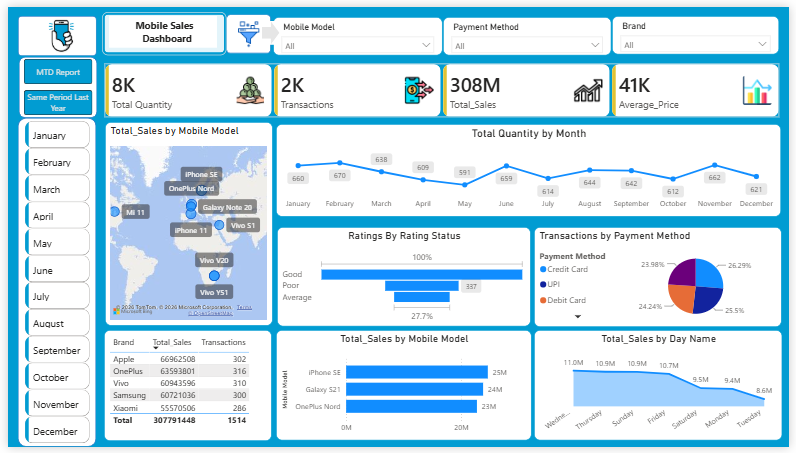

What the dashboard file says about the page in this screenshot:
{"tool":"powerbi","page":{"name":"DashBoard","canvas":[1280,720],"ordinal":0},"visuals":[{"type":"shape","box":[16.9,14.8,128.8,65.5],"z":0},{"type":"shape","box":[18.3,81.5,128,99.7],"z":1000},{"type":"image","box":[30.2,13,116.6,67.7],"z":2000},{"type":"shape","box":[15.8,181.4,128.2,538.6],"z":3000},{"type":"advancedSlicerVisual","fields":{"Values":["Custom_Calendar.Date.Variation.Date Hierarchy.Month"]},"box":[23.3,181.2,129.7,538.6],"z":4000},{"type":"cardVisual","fields":{"Data":["Sales_Data.Total Quantity","Sales_Data.Transactions","Sales_Data.Total_Sales","Sales_Data.Average_Price"]},"box":[144.6,78.1,1135.4,116.4],"z":5000},{"type":"slicer","fields":{"Values":["Sales_Data.Mobile Model"]},"box":[434.9,15.8,277.9,63.4],"z":6000},{"type":"slicer","fields":{"Values":["Sales_Data.Payment Method"]},"box":[712.8,15.8,276.5,63.4],"z":7000},{"type":"slicer","fields":{"Values":["Sales_Data.Brand"]},"box":[990.7,14.4,273.6,63.4],"z":8000},{"type":"shape","box":[354.2,8.6,80.6,72],"z":9000},{"type":"image","box":[358.6,23,70.6,43.2],"z":10000},{"type":"shape","box":[416.2,23,28.8,38.9],"z":11000},{"type":"shape","box":[154.1,8.6,204.5,70.6],"z":12000},{"type":"textbox","box":[165.6,14.4,177.1,51.8],"z":13000},{"type":"map","fields":{"Category":["Sales_Data.Mobile Model"],"Size":["Sales_Data.Total_Sales"]},"box":[158.4,188.6,275,334.1],"z":14000},{"type":"lineChart","fields":{"Category":["Custom_Calendar.Date.Variation.Date Hierarchy.Month"],"Y":["Sales_Data.Total Quantity"]},"box":[439.3,191.8,827.9,152.5],"z":15000},{"type":"funnel","title":"Ratings By Rating Status","fields":{"Y":["CountNonNull(Sales_Data.Customer Age)"],"Category":["Sales_Data.Rating Status"]},"box":[440.6,360,416.2,162.7],"z":16000},{"type":"pieChart","fields":{"Category":["Sales_Data.Payment Method"],"Y":["Sales_Data.Transactions"]},"box":[862.6,361.4,406.1,164.2],"z":17000},{"type":"clusteredBarChart","fields":{"Y":["Sales_Data.Total_Sales"],"Category":["Sales_Data.Mobile Model"]},"box":[438.9,530.3,418.9,181.2],"z":18000},{"type":"areaChart","fields":{"Y":["Sales_Data.Total_Sales"],"Category":["Custom_Calendar.Day Name"]},"box":[862.8,530.3,407.3,181.2],"z":19000},{"type":"tableEx","fields":{"Values":["Sales_Data.Brand","Sales_Data.Total_Sales","Sales_Data.Transactions"]},"box":[157.4,529.5,275.4,182],"z":20000},{"type":"pageNavigator","box":[25.9,85,112.3,92.2],"z":20001}]}

Visuals, with their boxes in screenshot pixels (x1, y1, x2, y2), scaled from the page's 1280x720 canvas onto the 796x453 screenshot:
shape: [11,9,91,51]
shape: [11,51,91,114]
image: [19,8,91,51]
shape: [10,114,90,452]
advancedSlicerVisual - Custom_Calendar.Date.Variation.Date Hierarchy.Month: [14,114,95,452]
cardVisual - Sales_Data.Total Quantity x Sales_Data.Transactions: [90,49,795,122]
slicer - Sales_Data.Mobile Model: [270,10,443,50]
slicer - Sales_Data.Payment Method: [443,10,615,50]
slicer - Sales_Data.Brand: [616,9,786,49]
shape: [220,5,270,51]
image: [223,14,267,42]
shape: [259,14,277,39]
shape: [96,5,223,50]
textbox: [103,9,213,42]
map - Sales_Data.Mobile Model x Sales_Data.Total_Sales: [99,119,270,329]
lineChart - Custom_Calendar.Date.Variation.Date Hierarchy.Month x Sales_Data.Total Quantity: [273,121,788,217]
"Ratings By Rating Status" funnel: [274,226,533,329]
pieChart - Sales_Data.Payment Method x Sales_Data.Transactions: [536,227,789,331]
clusteredBarChart - Sales_Data.Total_Sales x Sales_Data.Mobile Model: [273,334,533,448]
areaChart - Sales_Data.Total_Sales x Custom_Calendar.Day Name: [537,334,790,448]
tableEx - Sales_Data.Brand x Sales_Data.Total_Sales: [98,333,269,448]
pageNavigator: [16,53,86,111]
